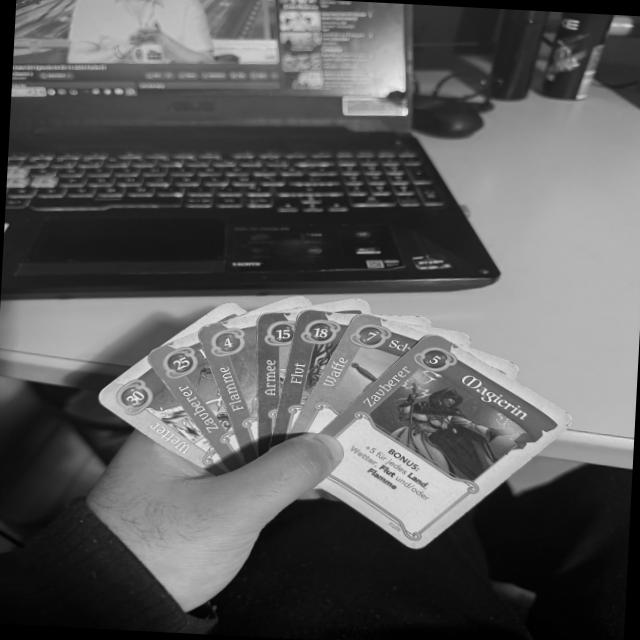Blizzard: (92, 359, 233, 477)
Dwarvish Infantry: (258, 312, 298, 460)
Elemental Enchantress: (317, 331, 579, 553)
Fire Elemental: (197, 315, 261, 465)
Swamp: (271, 308, 355, 449)
Sword of Keth: (287, 312, 426, 438)
Warlock Lord: (144, 332, 247, 473)
